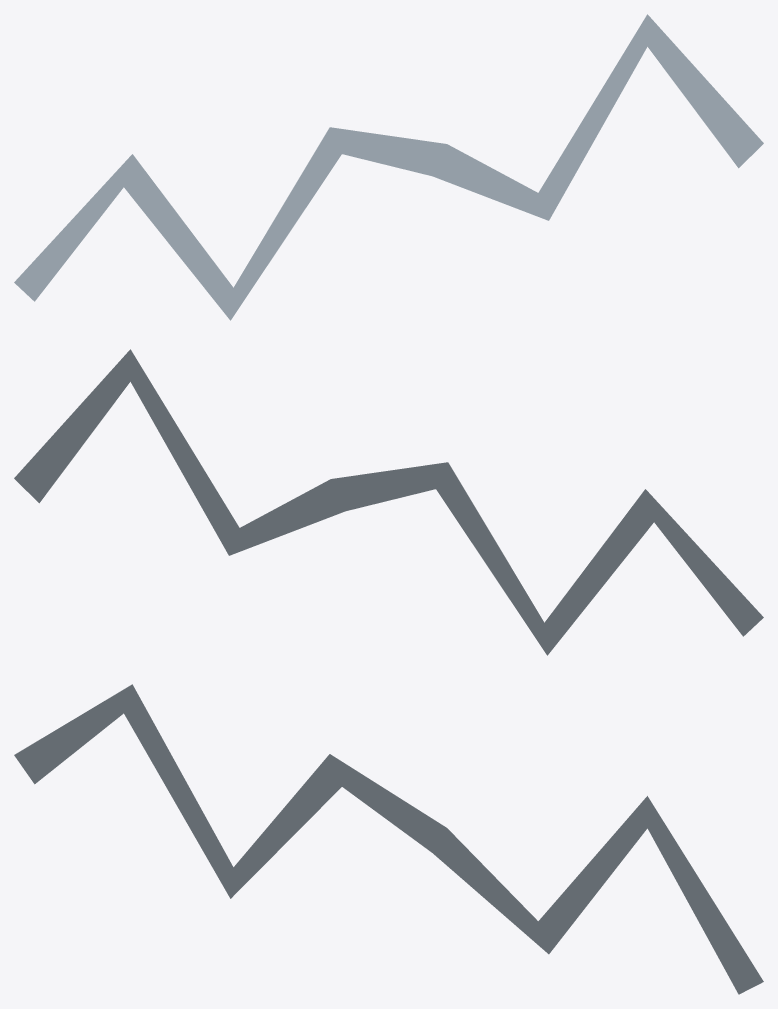
File: 2045_PotionThrow_Overall_GroundArc50.fbx
3 views of the same model, one above another, from view 1: azimuth 30°, elevation 25°; view 2: azimuth 150°, elevation 25°; view 3: azimuth 330°, elevation 25° (orthographic).
Visible parts, largest first — view 1: PART_GroundArc50; view 2: PART_GroundArc50; view 3: PART_GroundArc50.
Boxes of the visible parts, x1=… form: PART_GroundArc50: x1=14, y1=14, x2=763, y2=320; PART_GroundArc50: x1=14, y1=349, x2=763, y2=655; PART_GroundArc50: x1=14, y1=684, x2=763, y2=994.
Bounding box in the file's own units: 72.21 × 18.87 × 3.07e-06.
